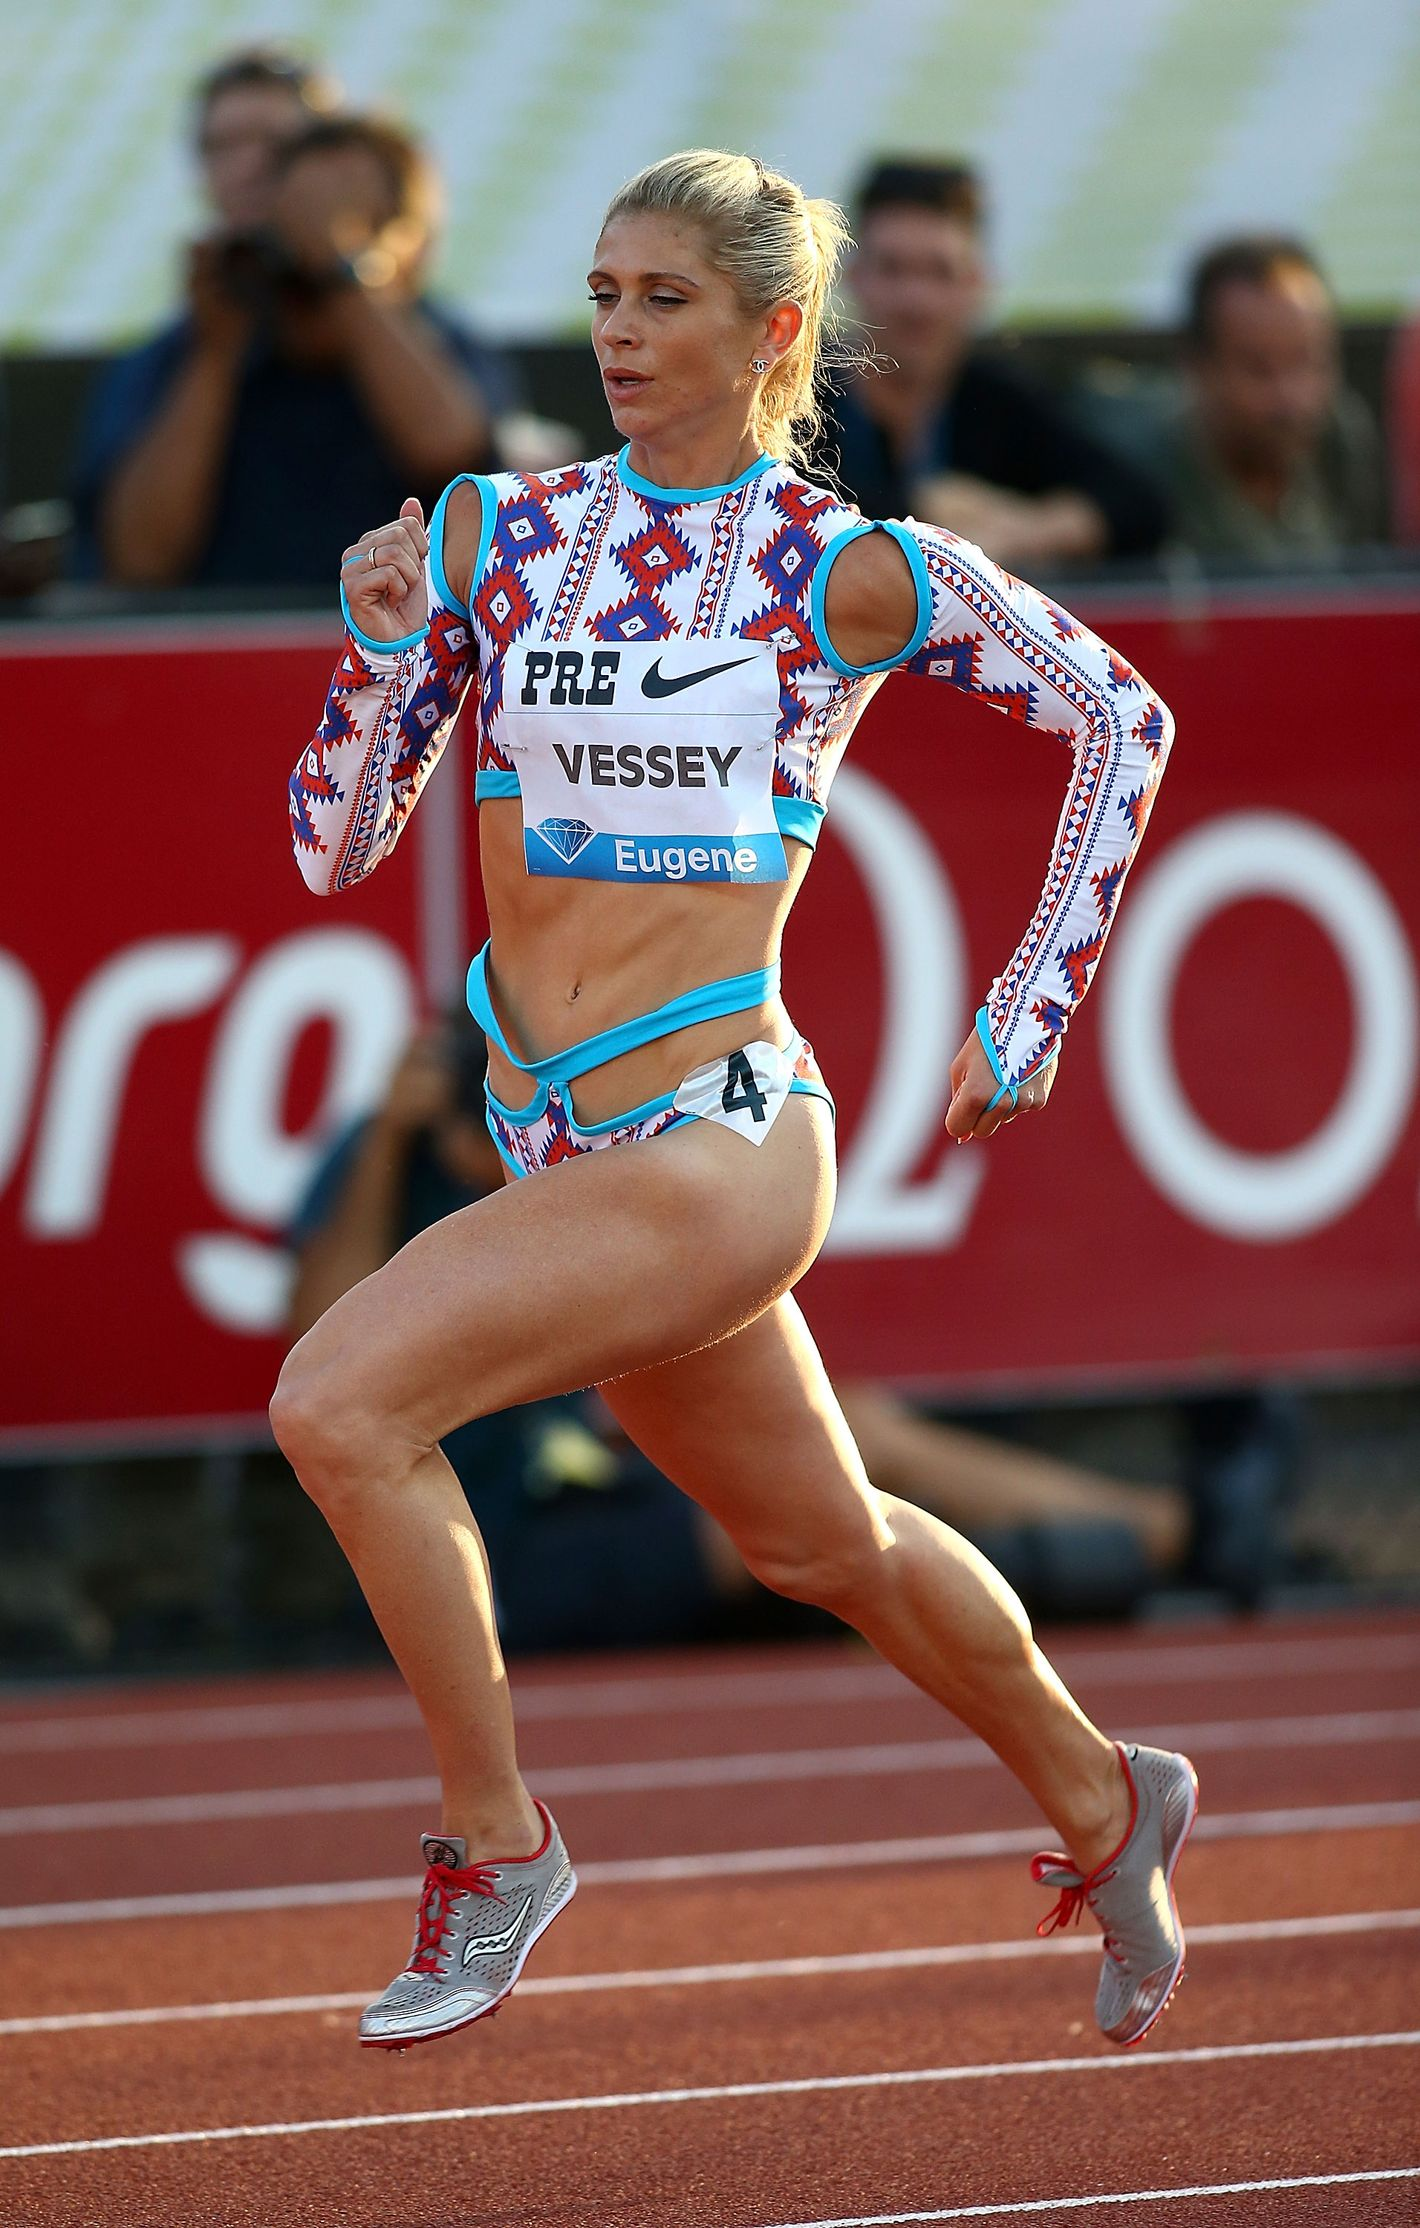runner: (270, 143, 1219, 2069)
